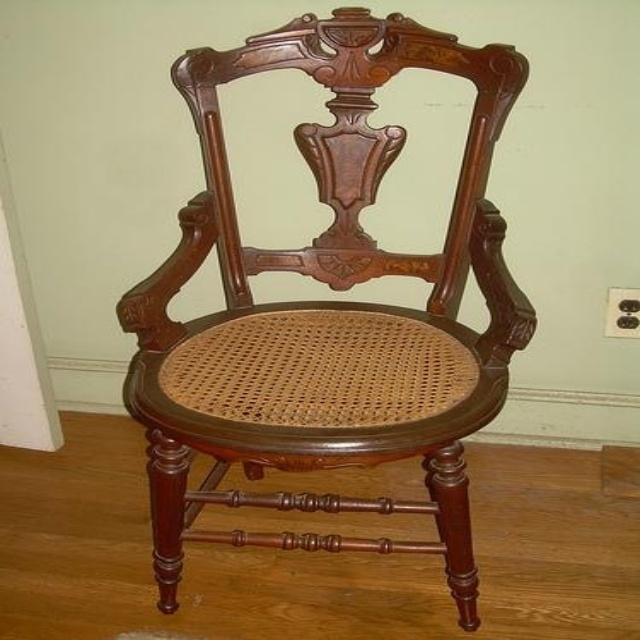obstacle: (116, 8, 534, 630)
